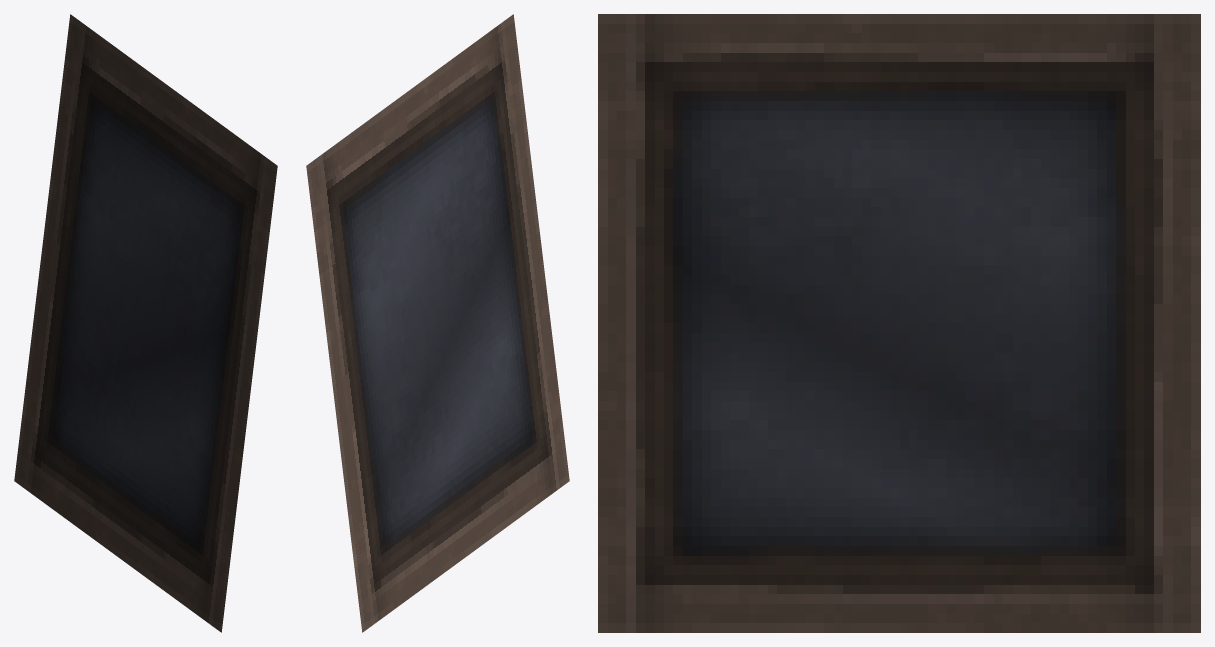
File: window.glb
The picture shows the model from 3 angles, left to right: view 1: azimuth 30°, elevation 25°; view 2: azimuth 150°, elevation 25°; view 3: azimuth 270°, elevation 25°; orthographic projection. The views are drawn at different scales.
Parts seen in each view (by area): view 1: Plane; view 2: Plane; view 3: Plane.
Part boxes in pixels (x1,y1,x2,y2): Plane: [14, 14, 277, 632]; Plane: [306, 14, 569, 632]; Plane: [598, 14, 1200, 632].
Size of the model in its own units: 0.3921 by 3.03 by 2.51.
Materials: 1 (1 with a texture image).
